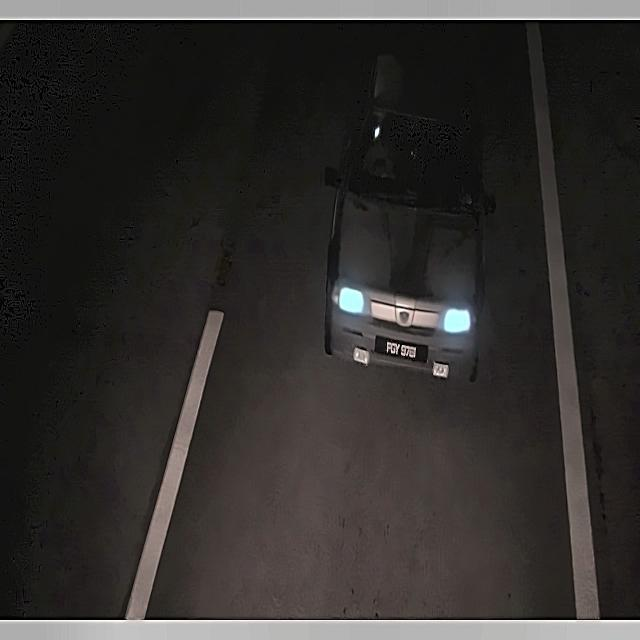car: (372, 327, 432, 372)
